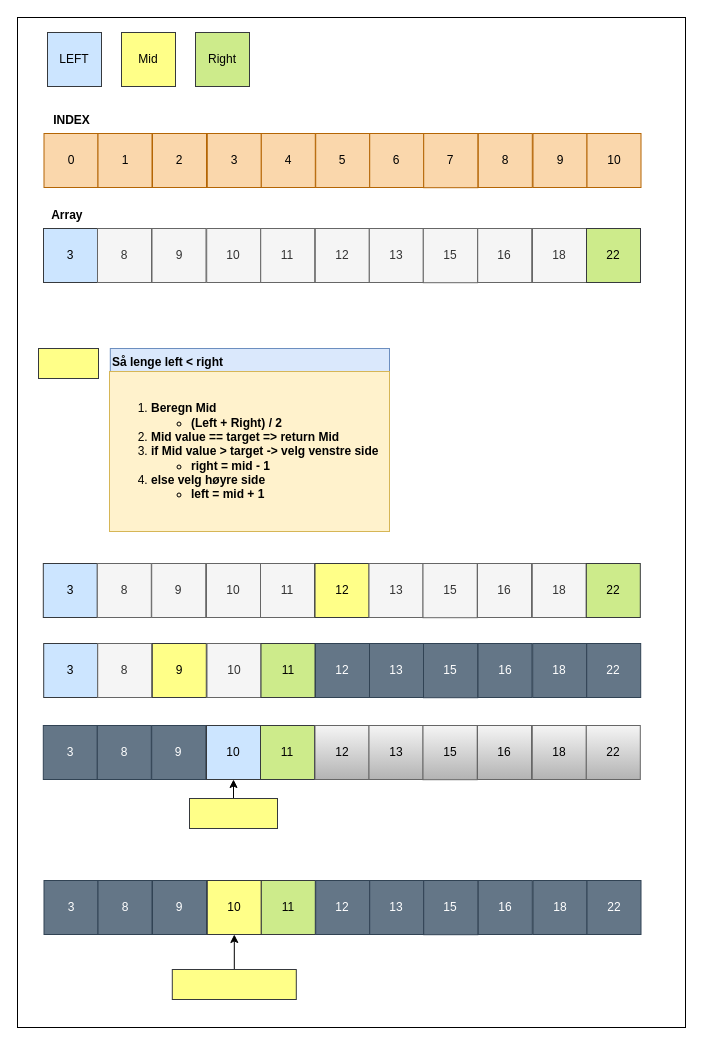
Image size: 703x1045. Some labels were removed from this diagram. The centre of each missing label's shape, as x and y in pixels:
Fant target: (233,984)
Også Mid Value: (233,813)
Søk 10: (68,363)
